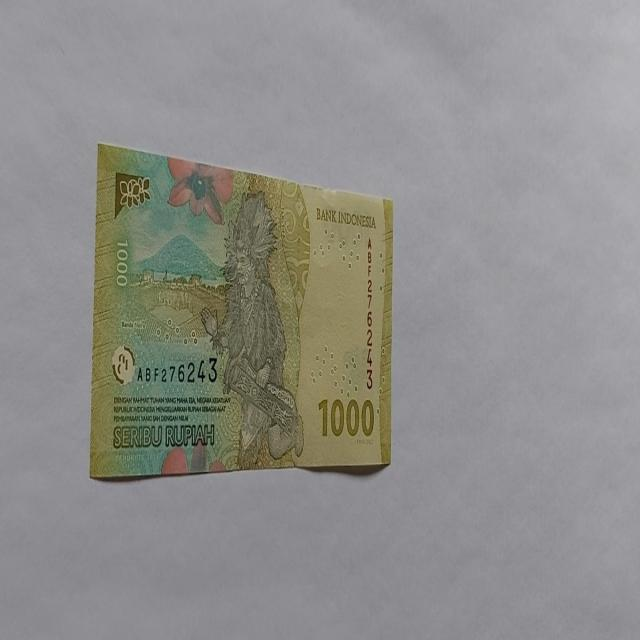seribu rupiah kertas: (89, 141, 394, 480), (202, 188, 304, 468)
